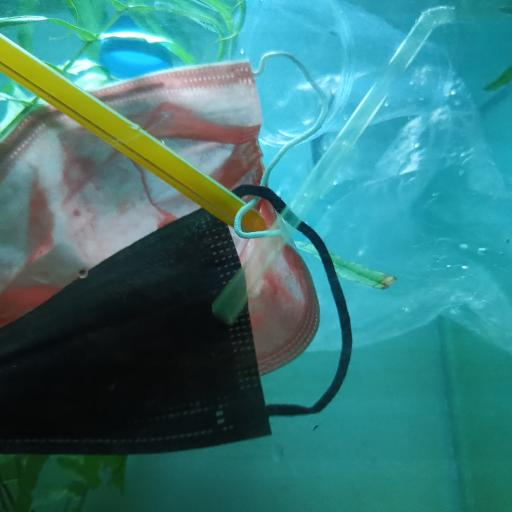bottle_cap: (99, 38, 170, 79)
mask: (0, 62, 322, 377), (0, 183, 353, 456)
plastic_bag: (261, 65, 512, 352)
plastic_cup: (236, 0, 454, 149)
plastic_straw: (212, 5, 488, 315), (0, 32, 259, 227)
